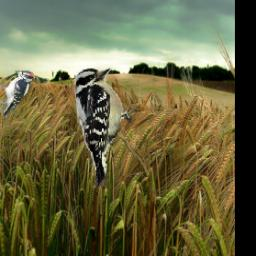Woodpecker: (73, 64, 139, 189), (1, 68, 35, 117)
